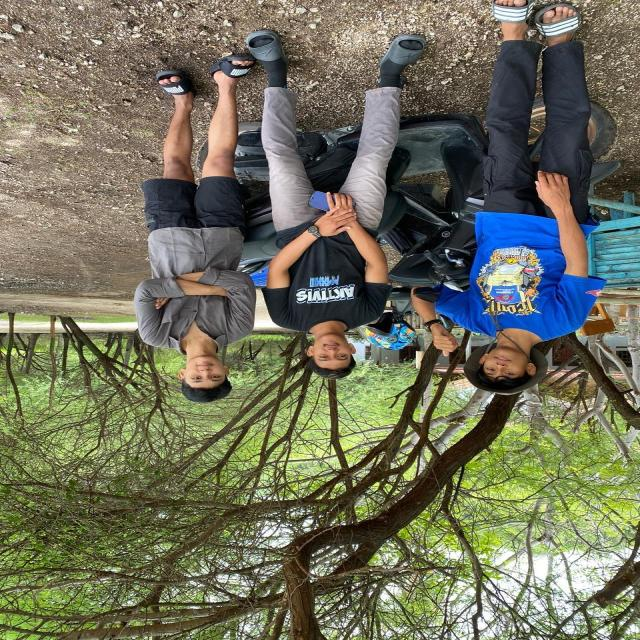nohelmet: (470, 337, 536, 402), (296, 328, 366, 388), (173, 347, 234, 406)
